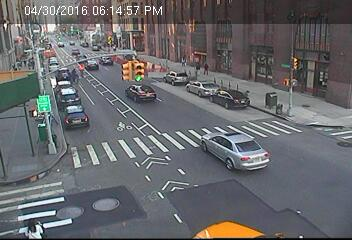neg: (306, 140, 329, 170), (289, 95, 311, 124), (141, 160, 163, 188), (183, 128, 204, 156), (40, 140, 61, 167), (68, 100, 87, 125), (208, 170, 226, 194), (25, 47, 43, 71), (173, 76, 190, 99), (135, 77, 151, 99), (243, 154, 259, 176), (61, 176, 77, 198), (39, 92, 55, 114), (118, 117, 134, 138), (119, 196, 135, 217), (289, 195, 305, 216), (65, 36, 80, 56), (212, 88, 226, 106), (280, 168, 293, 186), (286, 65, 299, 82), (252, 97, 265, 113), (256, 200, 268, 217), (248, 41, 260, 57), (138, 35, 150, 51), (112, 55, 124, 71)
pos: (202, 60, 214, 76), (192, 61, 202, 74)
